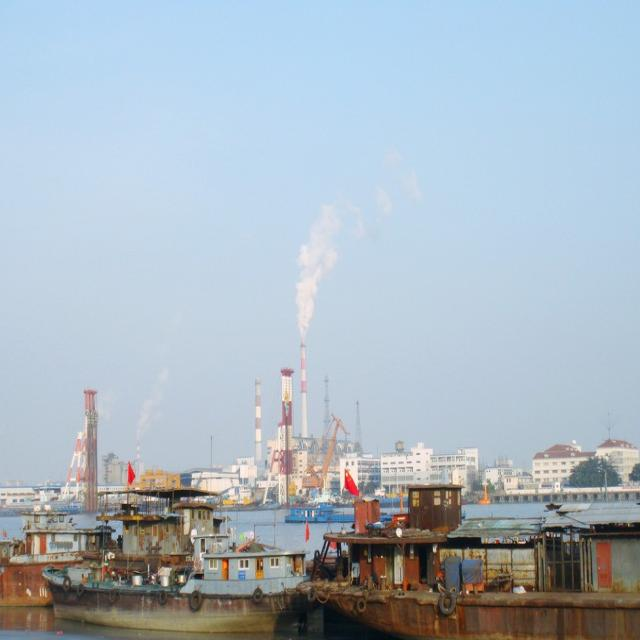fishing boat: (304, 454, 640, 640), (47, 511, 268, 640), (0, 507, 120, 599)
